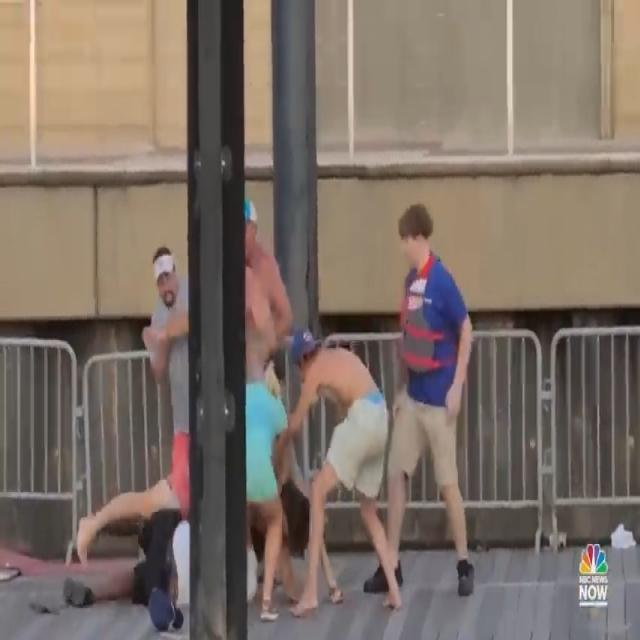fight: (63, 193, 404, 625)
non-fight: (365, 192, 479, 603)
